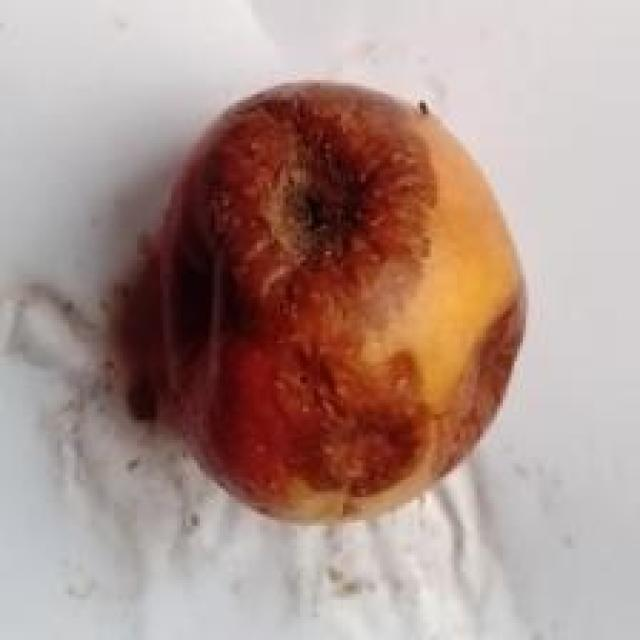rotten apple: (30, 31, 594, 638)
